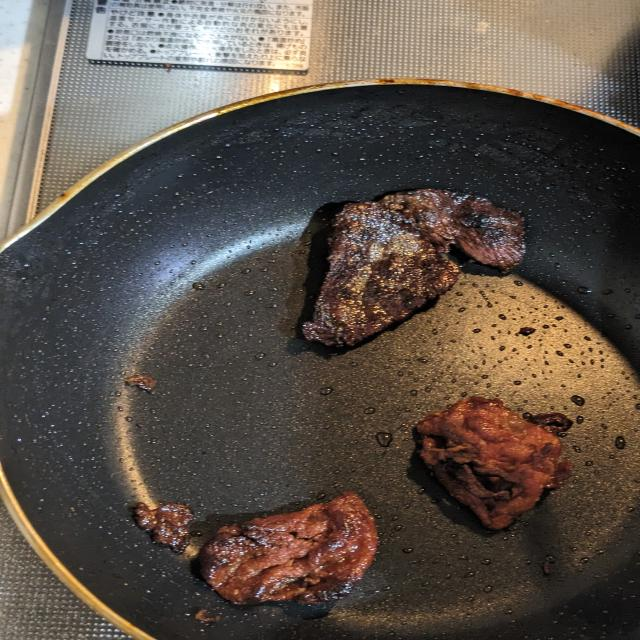overcooked beef,: (288, 184, 529, 366)
overcooked pork: (181, 483, 387, 616), (401, 388, 576, 540)
